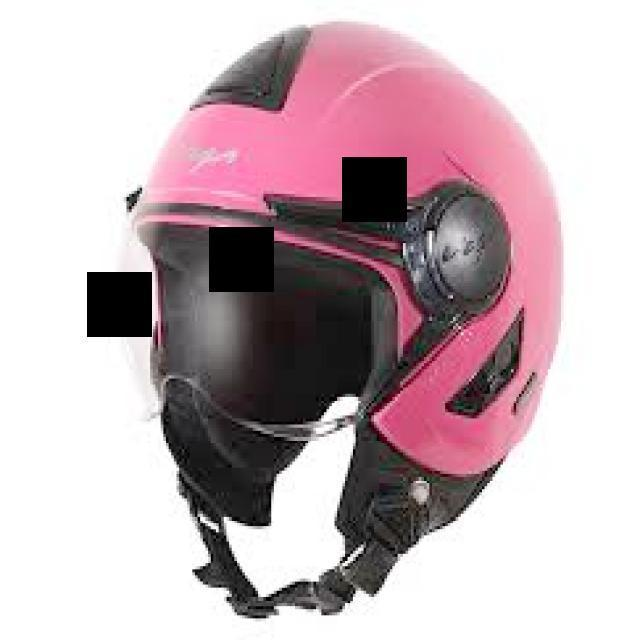helmet on: (130, 24, 564, 619)
